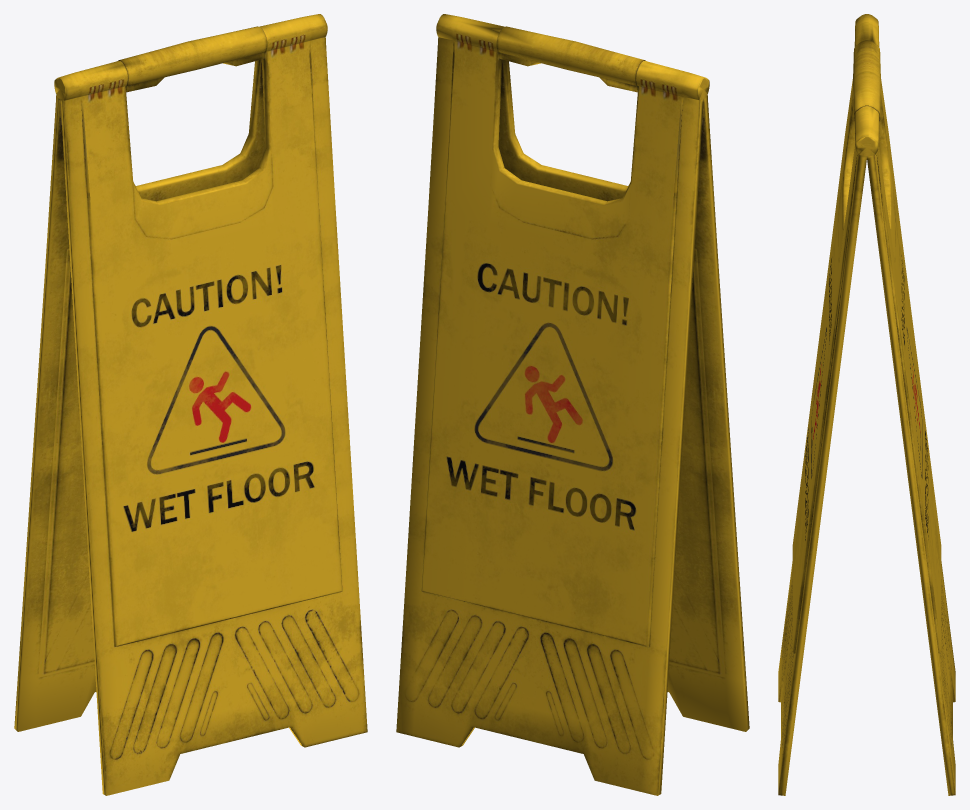
The model's file is wet_floor_sign.glb.
3 views of the same model, side by side, from view 1: azimuth 30°, elevation 25°; view 2: azimuth 150°, elevation 25°; view 3: azimuth 270°, elevation 25° (orthographic). The views are drawn at different scales.
Visible parts, largest first — view 1: wet sign.001; view 2: wet sign.001; view 3: wet sign.001.
Part boxes in pixels (x1=…): wet sign.001: x1=14, y1=14, x2=367, y2=795; wet sign.001: x1=396, y1=14, x2=749, y2=795; wet sign.001: x1=778, y1=14, x2=955, y2=795.
Size of the model in its own units: 1.95 by 4.91 by 1.19.
Materials: 1 (1 with a texture image).
